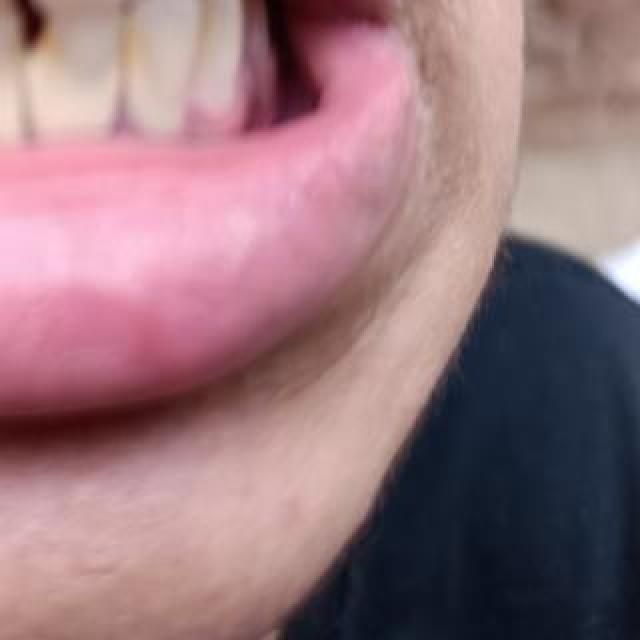calculus: (25, 42, 111, 168), (198, 0, 258, 122), (121, 34, 189, 126), (0, 10, 32, 146)
